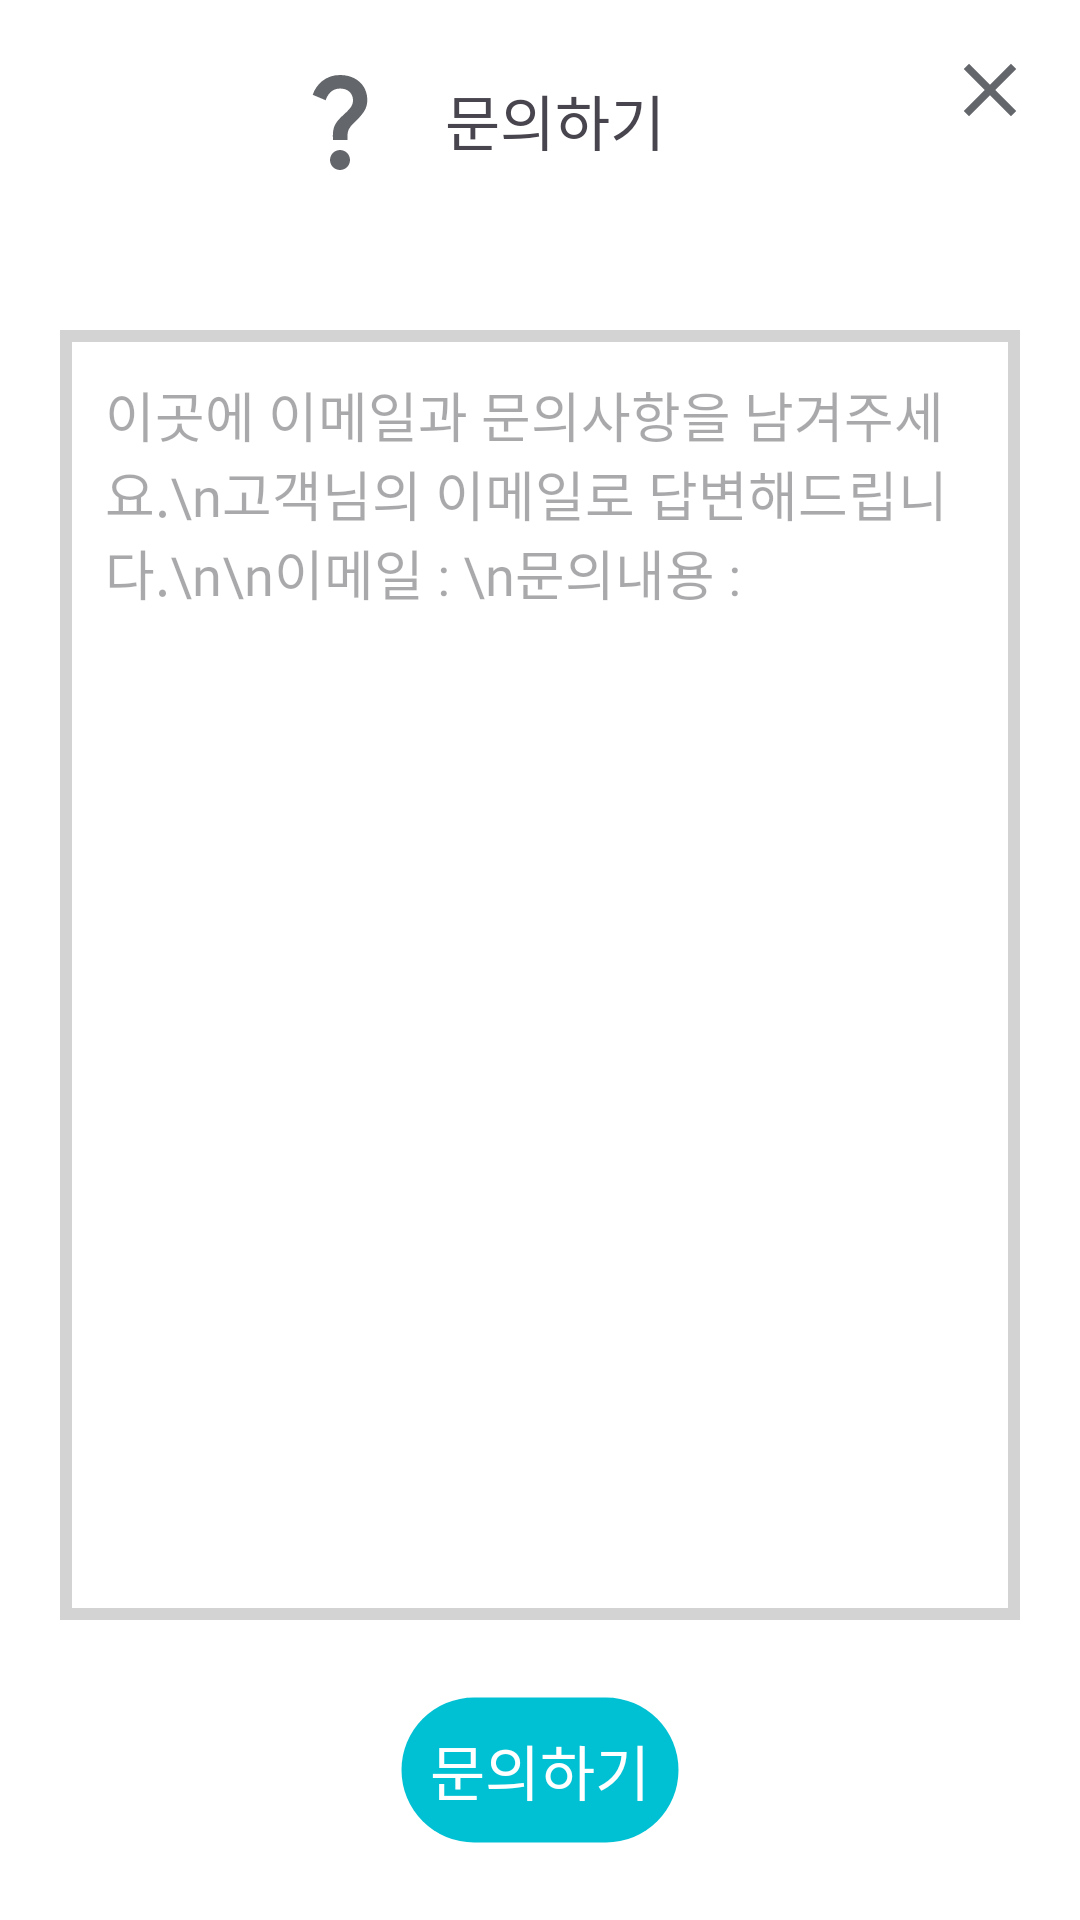

Screen size 1080px x 1920px. Icon name, then its box in pixels as box(x1, y1, x2, y2):
close: box(964, 64, 1016, 116)
question: box(313, 75, 368, 170)
